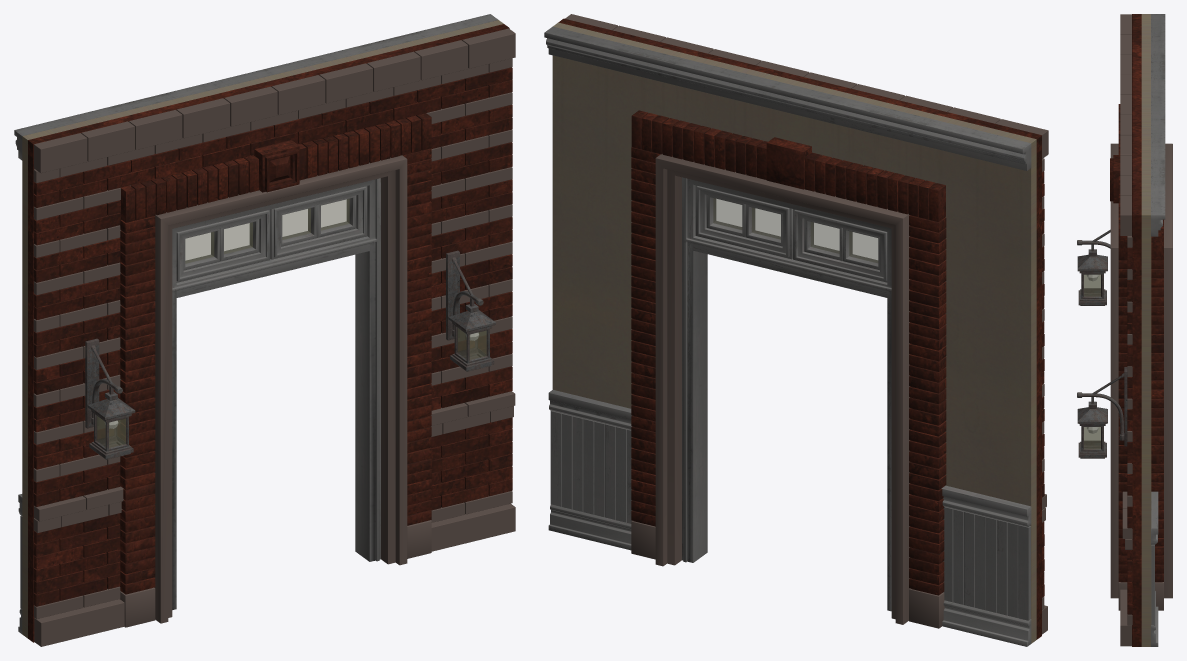
The model's file is SK4 DOOR 2.fbx.
3 views of the same model, side by side, from view 1: azimuth 30°, elevation 25°; view 2: azimuth 150°, elevation 25°; view 3: azimuth 270°, elevation 25° (orthographic). The views are drawn at different scales.
Parts seen in each view (by area): view 1: SK4 DOOR 2.001; view 2: SK4 DOOR 2.001; view 3: SK4 DOOR 2.001.
Part boxes in pixels (bbox=[...]): SK4 DOOR 2.001: bbox=[14, 14, 515, 646]; SK4 DOOR 2.001: bbox=[544, 14, 1048, 646]; SK4 DOOR 2.001: bbox=[1077, 14, 1172, 646].
Bounding box in the file's own units: 400 × 400 × 80.35.
